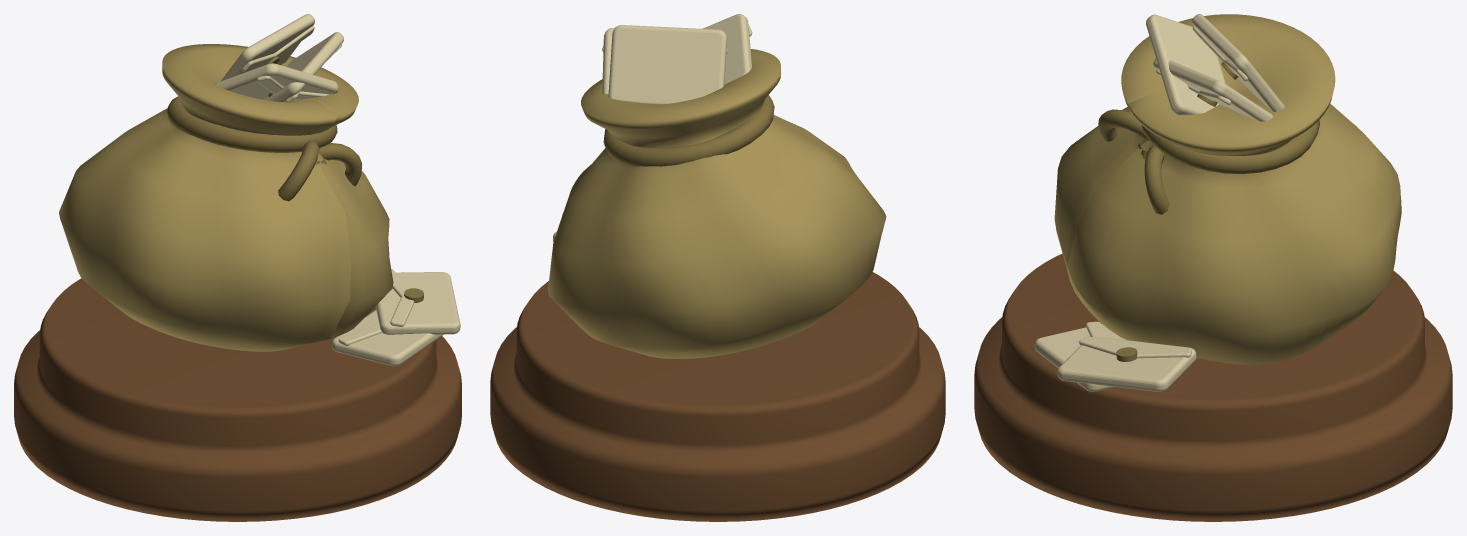
File: ch5-piece-mail-sack.glb
The picture shows the model from 3 angles, left to right: view 1: azimuth 30°, elevation 25°; view 2: azimuth 150°, elevation 25°; view 3: azimuth 270°, elevation 25°; orthographic projection. The views are drawn at different scales.
Visible parts, largest first — view 1: base, sack_body, letter_dropped_body (×2), letter_body (×3), tie_rope, bow_loop (×2); view 2: base, sack_body, letter_body (×3), tie_rope; view 3: sack_body, base, letter_body (×3), letter_dropped_body (×2), tie_rope, bow_loop (×2).
Part boxes in pixels (x1,y1,x2,y2): base: (14, 278, 461, 521); sack_body: (59, 44, 393, 351); letter_dropped_body (×2): (332, 272, 460, 366); letter_body (×3): (215, 14, 343, 102); tie_rope: (167, 96, 337, 152); bow_loop (×2): (278, 140, 361, 201); base: (490, 272, 945, 521); sack_body: (548, 49, 886, 358); letter_body (×3): (602, 14, 751, 104); tie_rope: (603, 95, 774, 166); sack_body: (1054, 14, 1401, 365); base: (974, 253, 1452, 521); letter_body (×3): (1146, 14, 1284, 121); letter_dropped_body (×2): (1034, 324, 1196, 391); tie_rope: (1141, 120, 1319, 173); bow_loop (×2): (1098, 109, 1169, 214).
Size of the model in its own units: 0.116 by 0.11 by 0.116.
